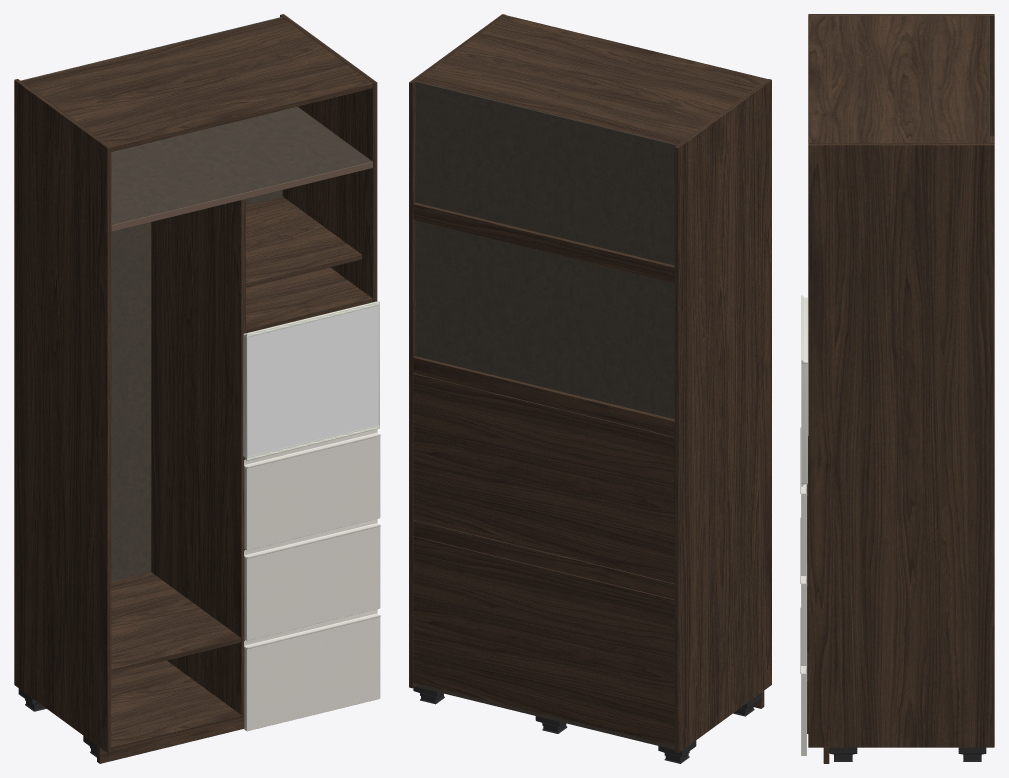
The picture shows the model from 3 angles, left to right: view 1: azimuth 30°, elevation 25°; view 2: azimuth 150°, elevation 25°; view 3: azimuth 270°, elevation 25°; orthographic projection.
Visible parts, largest first — view 1: HK1001287, LIFTUP_01; view 2: HK1001287; view 3: HK1001287, LIFTUP_01.
Boxes of the visible parts, bbox=[...] form: HK1001287: bbox=[14, 14, 380, 763]; LIFTUP_01: bbox=[243, 301, 379, 460]; HK1001287: bbox=[409, 14, 771, 763]; HK1001287: bbox=[800, 14, 994, 763]; LIFTUP_01: bbox=[801, 295, 807, 486].
Size of the model in its own units: 1 by 2.2 by 0.6256.
Materials: 11 (7 with a texture image).
